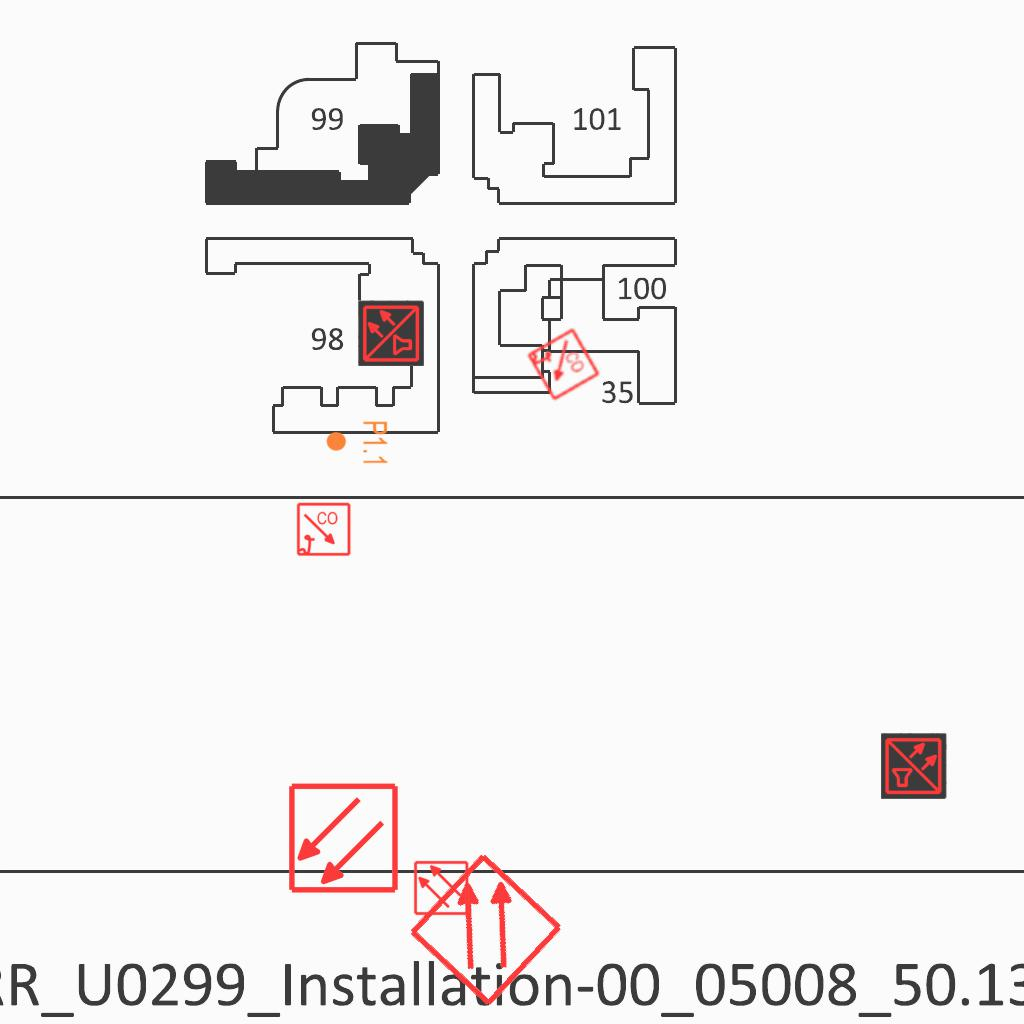Downlight_LED_Einbauleuchten_Flur: (325, 420, 389, 466)
OKW_Multisensormelder_(Kombination_optischer_Rauch-Kahlenmonoxid_Waerme-Melder): (358, 300, 424, 366), (881, 733, 947, 799)
RMO_Rauchmelder_optischer: (405, 849, 566, 1010), (287, 782, 400, 895), (413, 860, 469, 916)
ROA_Rauchmelder_optisch_mit_Signalgeber_(Sockelsirene): (524, 326, 602, 404), (296, 502, 352, 558)
